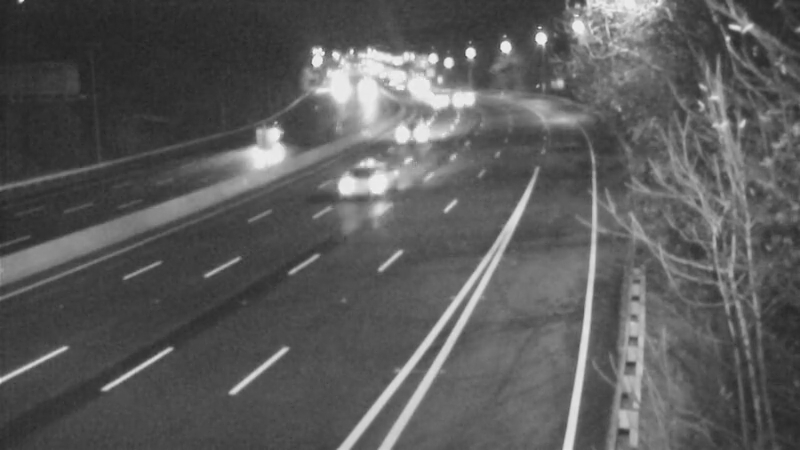vehicle: (323, 140, 403, 220), (440, 75, 490, 125), (408, 74, 458, 124), (388, 106, 438, 156), (250, 111, 300, 161)
